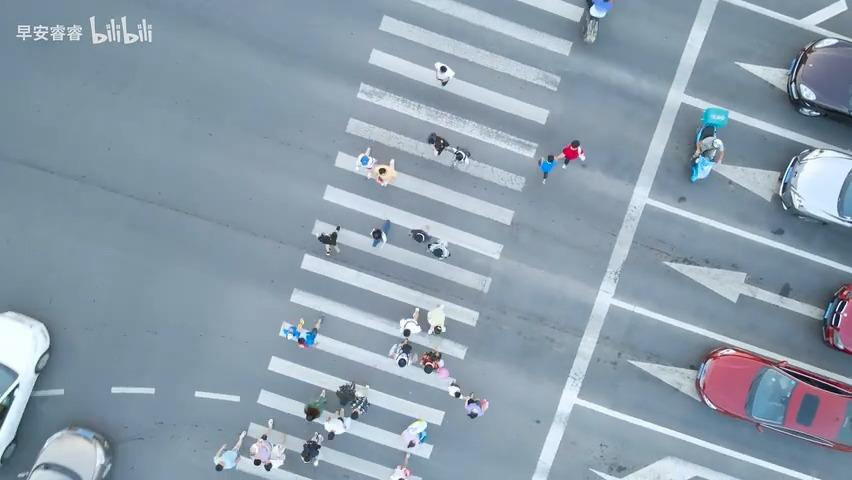Civilian: (581, 0, 613, 43), (213, 430, 246, 471), (400, 419, 427, 468), (554, 139, 585, 169), (691, 136, 724, 164), (434, 138, 470, 163), (296, 316, 323, 348), (249, 434, 272, 470), (323, 407, 348, 440), (398, 306, 420, 343), (300, 431, 323, 466), (388, 337, 415, 366), (303, 388, 326, 421), (316, 225, 340, 256), (356, 146, 377, 180), (349, 381, 370, 415), (261, 443, 286, 471), (464, 392, 489, 418), (373, 158, 396, 186), (426, 303, 446, 335), (537, 154, 558, 184), (426, 238, 451, 259), (427, 132, 449, 155), (585, 0, 613, 18), (434, 61, 454, 86), (432, 351, 450, 378), (449, 146, 471, 168), (408, 224, 430, 243), (369, 227, 387, 248), (447, 378, 463, 399), (389, 464, 411, 479), (419, 351, 434, 373), (374, 166, 389, 186)
